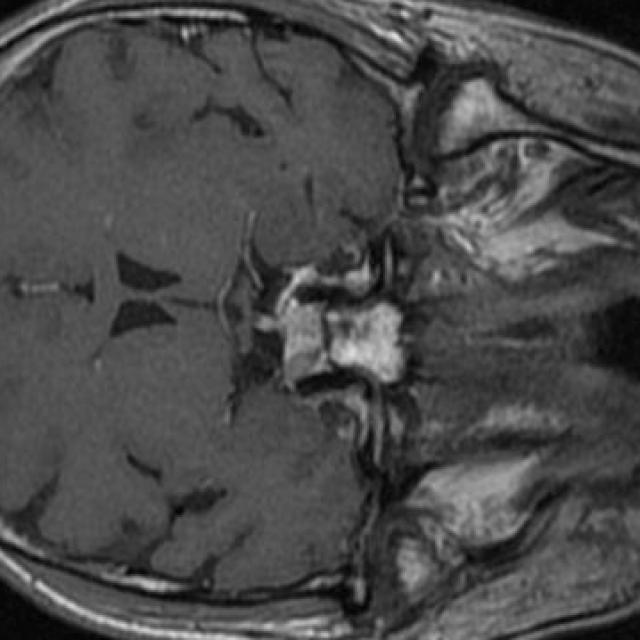pituitary: (282, 301, 330, 383)
